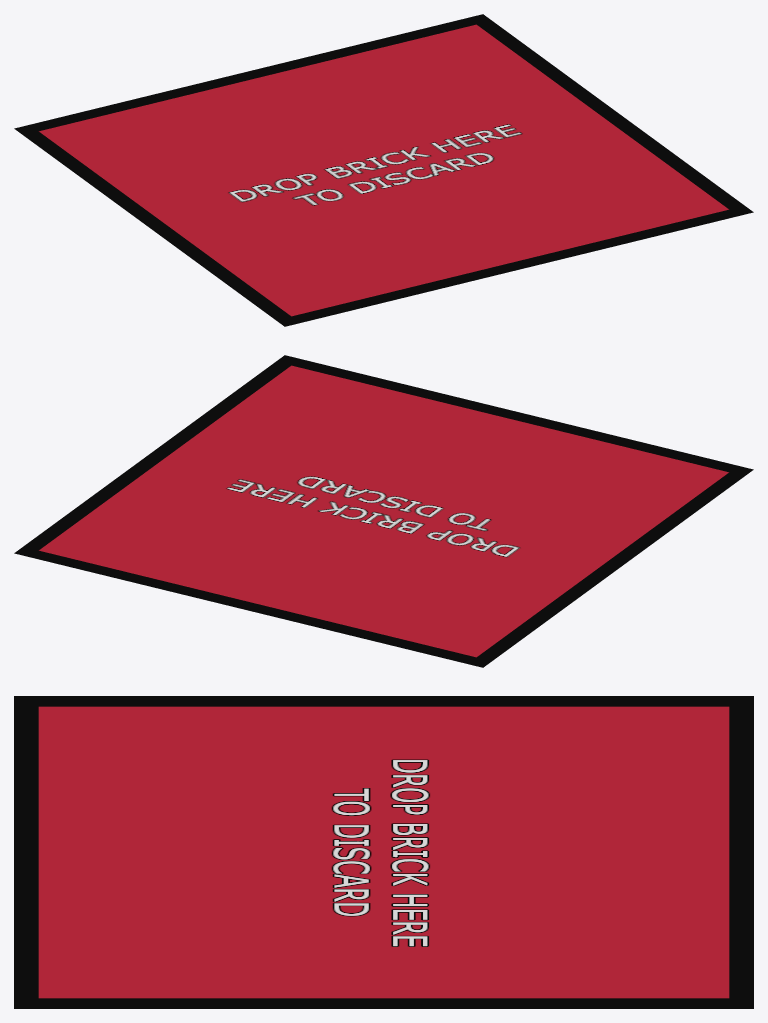
The model's file is DiscardPlane.glb.
3 views of the same model, one above another, from view 1: azimuth 30°, elevation 25°; view 2: azimuth 150°, elevation 25°; view 3: azimuth 270°, elevation 25° (orthographic). The views are drawn at different scales.
Parts seen in each view (by area): view 1: DiscardPlane; view 2: DiscardPlane; view 3: DiscardPlane.
Part boxes in pixels (x1,y1,x2,y2): DiscardPlane: [14, 14, 753, 326]; DiscardPlane: [14, 355, 753, 667]; DiscardPlane: [14, 696, 753, 1008].
Size of the model in its own units: 3 by 0 by 3.
Materials: 2 (1 with a texture image).
